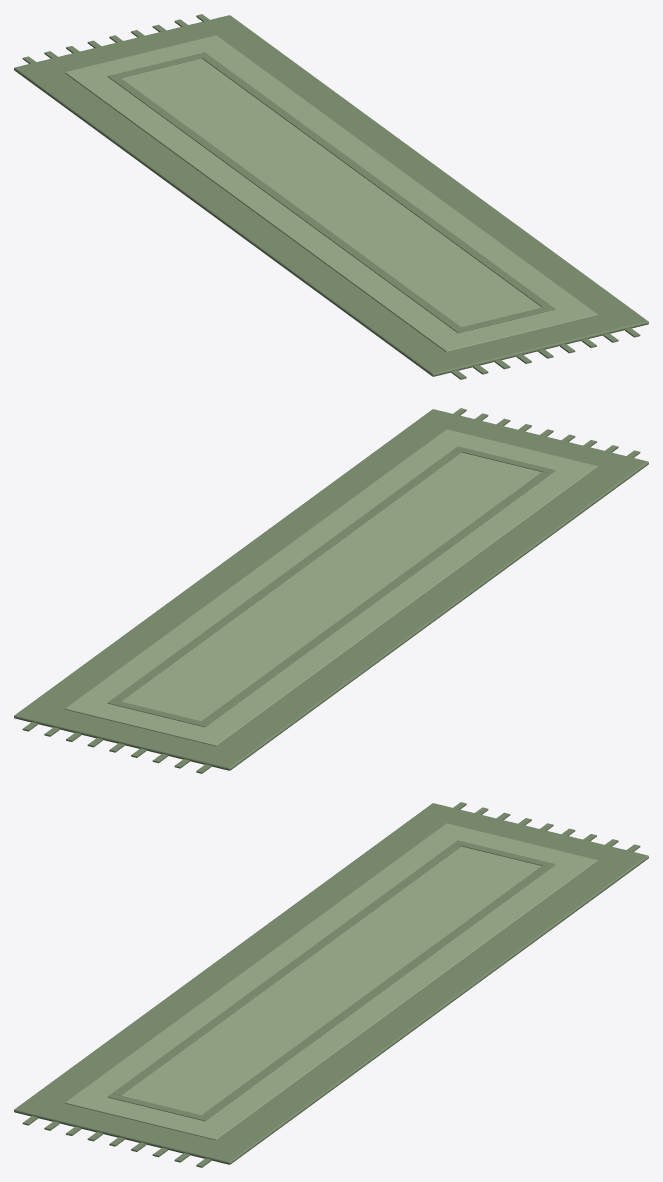
File: rugRunner.glb
3 views of the same model, one above another, from view 1: azimuth 30°, elevation 25°; view 2: azimuth 150°, elevation 25°; view 3: azimuth 330°, elevation 25° (orthographic).
Visible parts, largest first — view 1: rugRunner; view 2: rugRunner; view 3: rugRunner.
Part boxes in pixels (x1,y1,x2,y2): rugRunner: [14, 14, 648, 379]; rugRunner: [14, 408, 648, 773]; rugRunner: [14, 802, 648, 1167].
Size of the model in its own units: 0.8 by 0.019 by 2.8.
